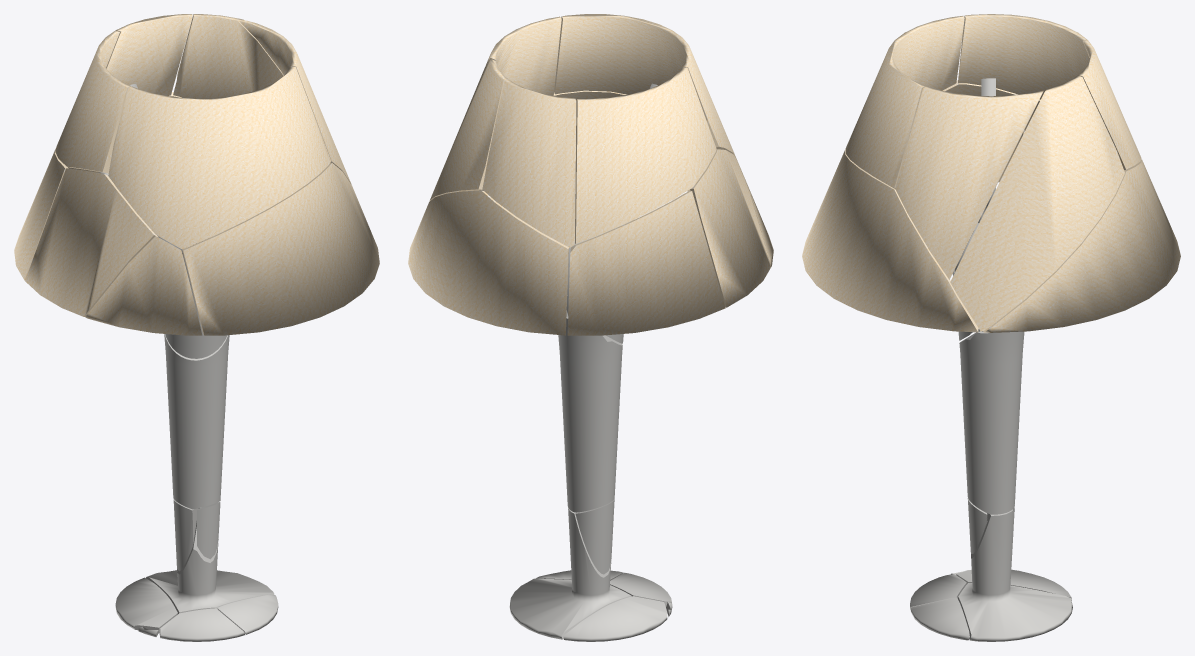
Rendered from FracturedLamp.fbx.
3 renders of one model, left to right at view 1: azimuth 30°, elevation 25°; view 2: azimuth 150°, elevation 25°; view 3: azimuth 270°, elevation 25°, orthographic.
Visible parts, largest first — view 1: LampTopPart_cell.009, LampTopPart_cell.003, LampTopPart_cell.005, LampBotPart_cell.006, LampTopPart_cell.008, LampTopPart_cell.002, LampTopPart_cell.007, LampTopPart_cell.004, LampBotPart_cell.005, LampTopPart_cell, LampTopPart_cell.001, LampBotPart_cell.015 (+5 smaller); view 2: LampTopPart_cell.006, LampTopPart_cell.007, LampTopPart_cell, LampTopPart_cell.004, LampTopPart_cell.009, LampBotPart_cell.006, LampTopPart_cell.005, LampBotPart_cell.005, LampTopPart_cell.002, LampTopPart_cell.001, LampBotPart_cell.015, LampBotPart_cell.009 (+1 smaller); view 3: LampTopPart_cell.002, LampTopPart_cell.003, LampTopPart_cell.001, LampTopPart_cell.006, LampBotPart_cell.006, LampTopPart_cell.009, LampTopPart_cell.007, LampBotPart_cell.005, LampTopPart_cell.004, LampBotPart_cell.013, LampBotPart_cell.007, LampBotPart_cell.015 (+2 smaller).
Part boxes in pixels (<box>): LampTopPart_cell.009: <box>108,66,331,249</box>; LampTopPart_cell.003: <box>182,163,379,335</box>; LampTopPart_cell.005: <box>25,168,158,316</box>; LampBotPart_cell.006: <box>164,334,229,509</box>; LampTopPart_cell.008: <box>85,236,202,335</box>; LampTopPart_cell.002: <box>173,14,283,98</box>; LampTopPart_cell.007: <box>55,31,131,173</box>; LampTopPart_cell.004: <box>106,14,192,95</box>; LampBotPart_cell.005: <box>146,507,274,614</box>; LampTopPart_cell: <box>14,147,68,280</box>; LampTopPart_cell.001: <box>240,20,351,184</box>; LampBotPart_cell.015: <box>115,577,177,633</box>; LampTopPart_cell.006: <box>408,190,568,335</box>; LampTopPart_cell.007: <box>575,67,716,243</box>; LampTopPart_cell: <box>567,191,725,335</box>; LampTopPart_cell.004: <box>482,79,576,247</box>; LampTopPart_cell.009: <box>554,14,736,158</box>; LampBotPart_cell.006: <box>558,310,622,512</box>; LampTopPart_cell.005: <box>690,149,770,307</box>; LampBotPart_cell.005: <box>509,507,631,639</box>; LampTopPart_cell.002: <box>429,59,508,200</box>; LampTopPart_cell.001: <box>485,16,561,95</box>; LampBotPart_cell.015: <box>563,596,667,641</box>; LampBotPart_cell.009: <box>575,499,614,574</box>; LampTopPart_cell.002: <box>950,75,1124,331</box>; LampTopPart_cell.003: <box>802,149,978,332</box>; LampTopPart_cell.001: <box>895,86,1043,279</box>; LampTopPart_cell.006: <box>983,159,1180,332</box>; LampBotPart_cell.006: <box>959,331,1024,514</box>; LampTopPart_cell.009: <box>845,16,964,187</box>; LampTopPart_cell.007: <box>958,14,1089,99</box>; LampBotPart_cell.005: <box>958,509,1072,641</box>; LampTopPart_cell.004: <box>1078,40,1141,169</box>; LampBotPart_cell.013: <box>910,597,969,640</box>; LampBotPart_cell.007: <box>910,574,966,610</box>; LampBotPart_cell.015: <box>956,569,1071,598</box>.
Size of the model in its own units: 25.84 by 43.32 by 27.
